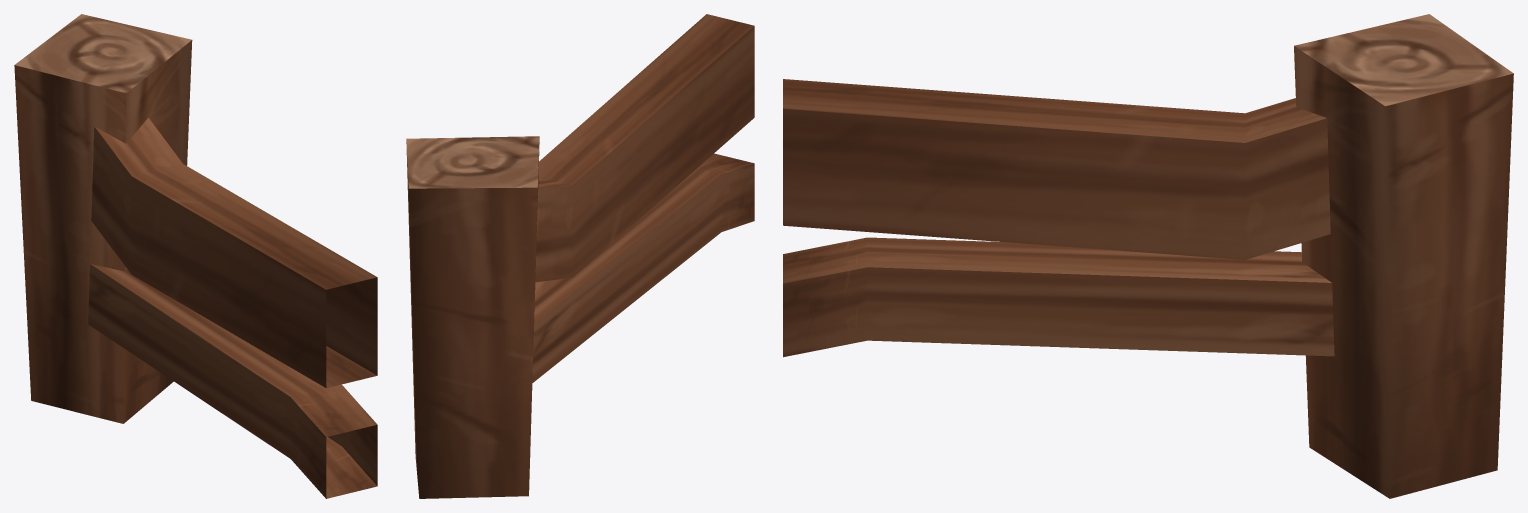
File: fence3.FBX
The picture shows the model from 3 angles, left to right: view 1: azimuth 30°, elevation 25°; view 2: azimuth 150°, elevation 25°; view 3: azimuth 270°, elevation 25°; orthographic projection. The views are drawn at different scales.
Parts seen in each view (by area): view 1: fence3; view 2: fence3; view 3: fence3.
Part boxes in pixels (x1,y1,x2,y2): fence3: [14, 14, 377, 498]; fence3: [406, 14, 754, 498]; fence3: [783, 14, 1513, 498].
Bounding box in the file's own units: 91 × 184 × 304.
Materials: 1 (1 with a texture image).
